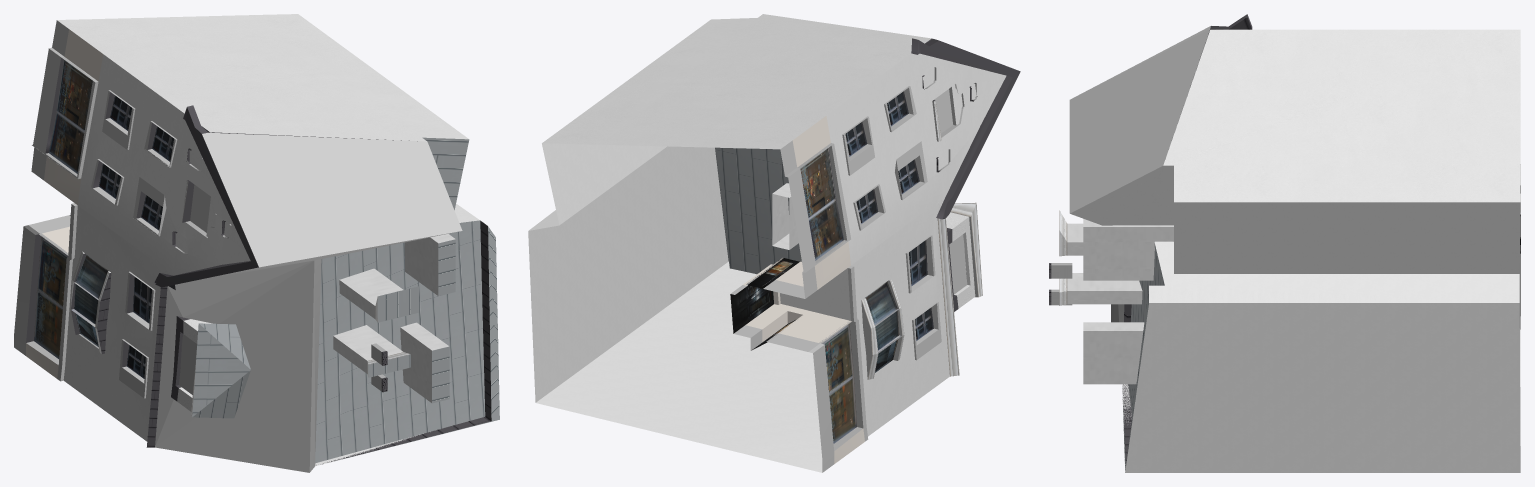
The model's file is Kullassepa_11-origo.obj.
3 renders of one model, left to right at view 1: azimuth 30°, elevation 25°; view 2: azimuth 150°, elevation 25°; view 3: azimuth 270°, elevation 25°, orthographic. The views are drawn at different scales.
Visible parts, largest first — view 1: Kullassepa_11; view 2: Kullassepa_11; view 3: Kullassepa_11.
Part boxes in pixels (x1,y1,x2,y2): Kullassepa_11: (14, 14, 499, 472); Kullassepa_11: (528, 14, 1020, 472); Kullassepa_11: (1049, 14, 1520, 472).
Size of the model in its own units: 11.94 by 12.5 by 15.99.
